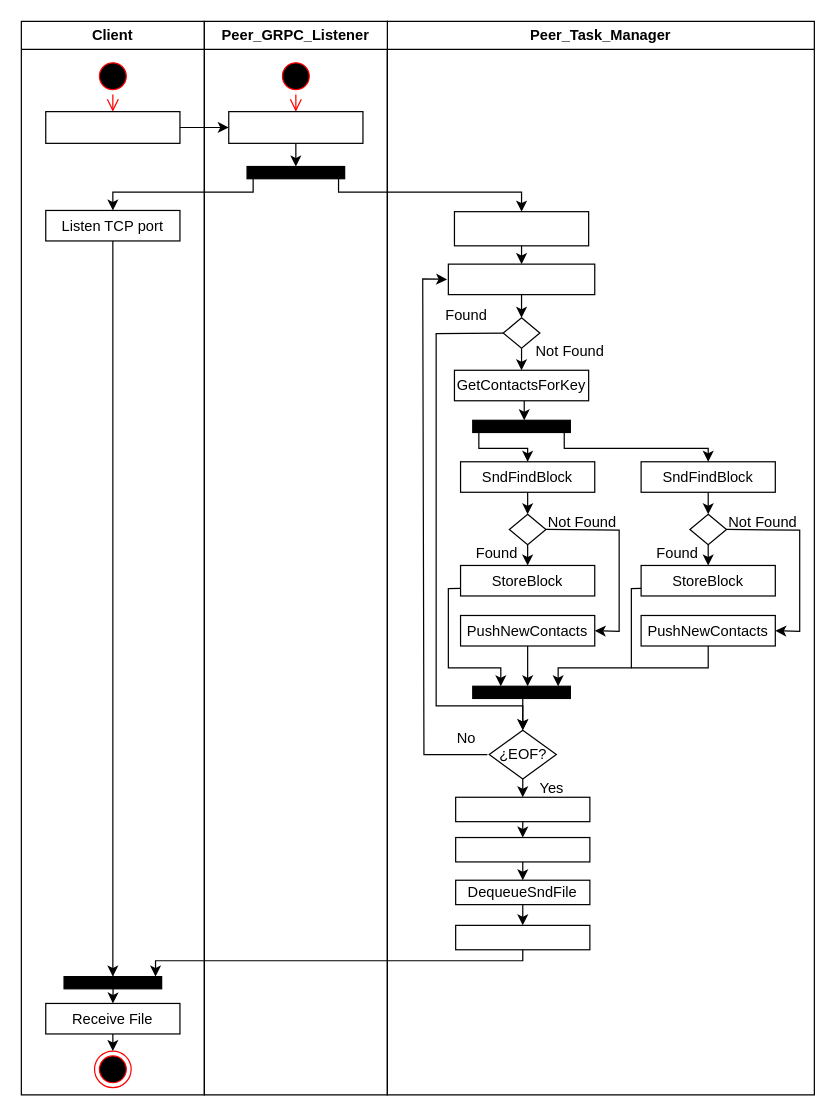
Image size: 836x1116. Some labels were removed from this diagram. The shapes that lost their labels are listed below. From the top down, each one's centre as x and y in pixels, then its label:
(112,126): GetFile
(295,126): EnqueueGetFile
(521,228): DequeueGetFile
(521,279): FindNextBlockLocally
(522,809): Restore
(522,849): EnqueueSndFile
(522,937): SndFile
